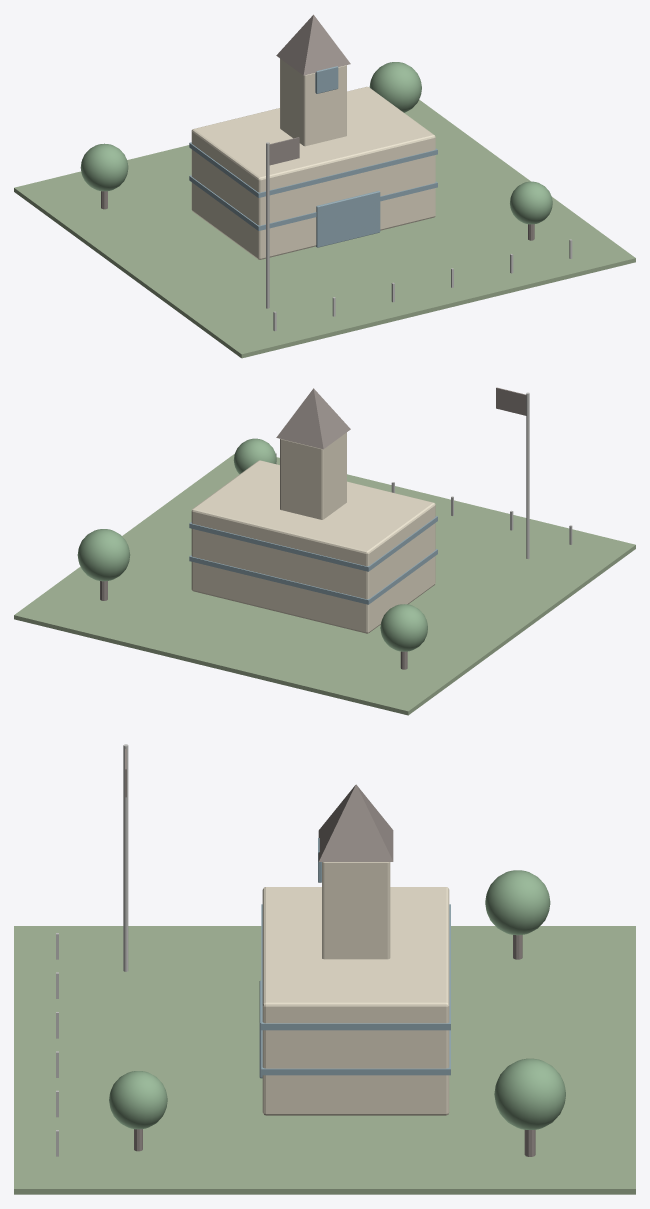
File: education.glb
3 renders of one model, top to bottom at view 1: azimuth 30°, elevation 25°; view 2: azimuth 150°, elevation 25°; view 3: azimuth 270°, elevation 25°, orthographic. The views are drawn at different scales.
Visible parts, largest first — view 1: Ground, School, Tower, Entrance, TowerRoof, TreeA_crown, TreeC_crown, TreeB_crown, Band1, Band0, Flag, Flagpole (+1 smaller); view 2: Ground, School, Tower, TowerRoof, TreeA_crown, TreeC_crown, Band0, Band1, TreeB_crown, Flag, Flagpole; view 3: Ground, School, Tower, TowerRoof, TreeA_crown, TreeC_crown, TreeB_crown, Band1, Band0, Flagpole.
Part boxes in pixels (x1=…): Ground: x1=14, y1=99, x2=635, y2=358; School: x1=191, y1=86, x2=435, y2=259; Tower: x1=280, y1=58, x2=346, y2=146; Entrance: x1=316, y1=191, x2=380, y2=247; TowerRoof: x1=276, y1=14, x2=350, y2=75; TreeA_crown: x1=369, y1=62, x2=421, y2=112; TreeC_crown: x1=80, y1=143, x2=128, y2=191; TreeB_crown: x1=510, y1=181, x2=552, y2=224; Band1: x1=189, y1=142, x2=437, y2=197; Band0: x1=189, y1=175, x2=437, y2=230; Flag: x1=269, y1=137, x2=299, y2=165; Flagpole: x1=266, y1=142, x2=269, y2=308; Ground: x1=14, y1=453, x2=635, y2=715; School: x1=191, y1=460, x2=435, y2=633; Tower: x1=280, y1=432, x2=346, y2=519; TowerRoof: x1=276, y1=388, x2=350, y2=449; TreeA_crown: x1=77, y1=529, x2=130, y2=581; TreeC_crown: x1=380, y1=604, x2=427, y2=651; Band0: x1=189, y1=549, x2=437, y2=604; Band1: x1=189, y1=516, x2=437, y2=571; TreeB_crown: x1=233, y1=438, x2=276, y2=474; Flag: x1=496, y1=387, x2=526, y2=415; Flagpole: x1=526, y1=392, x2=529, y2=558; Ground: x1=14, y1=926, x2=635, y2=1194; School: x1=262, y1=887, x2=449, y2=1115; Tower: x1=322, y1=862, x2=390, y2=959; TowerRoof: x1=318, y1=784, x2=393, y2=861; TreeA_crown: x1=494, y1=1058, x2=565, y2=1129; TreeC_crown: x1=485, y1=870, x2=550, y2=935; TreeB_crown: x1=109, y1=1071, x2=167, y2=1129; Band1: x1=261, y1=904, x2=450, y2=1030; Band0: x1=261, y1=1030, x2=450, y2=1075; Flagpole: x1=123, y1=744, x2=128, y2=971.
Size of the model in its own units: 20 by 9.9 by 20.
